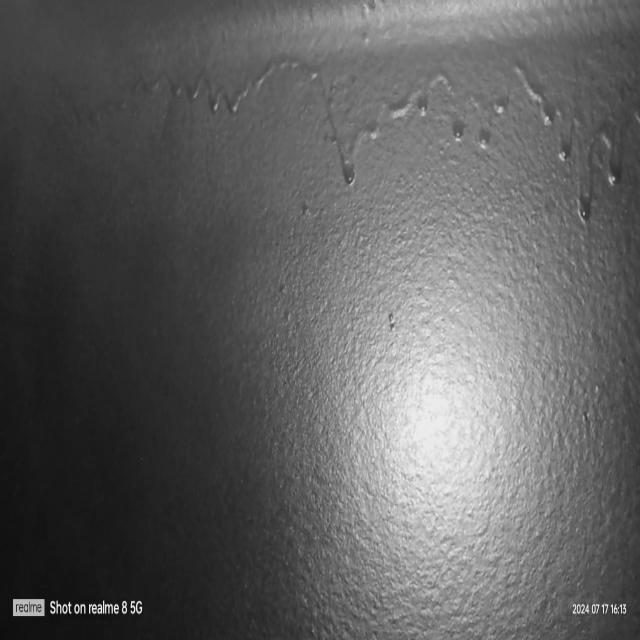paint drips: (61, 39, 640, 224)
